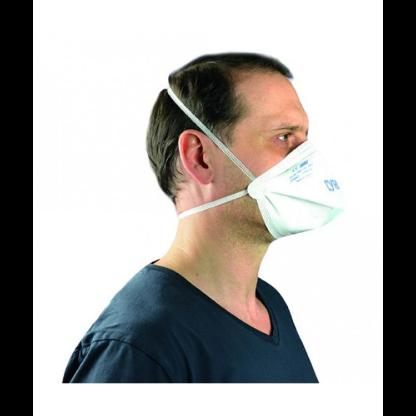FFP Mask: (133, 54, 353, 258)
